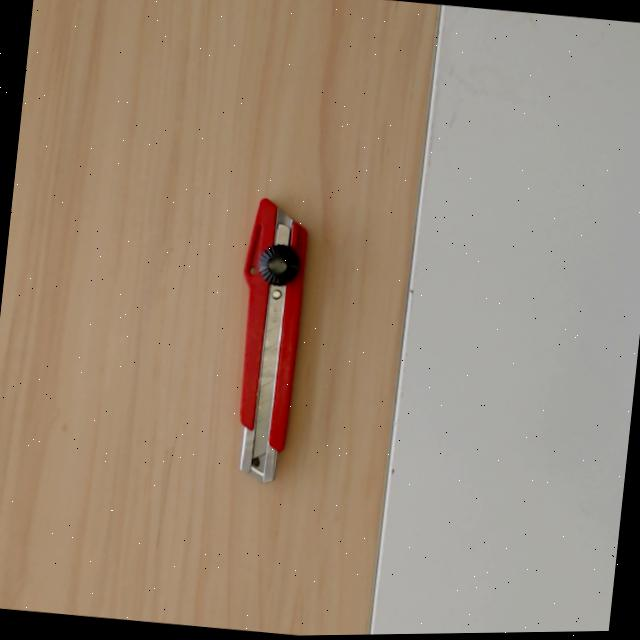Cutter-Besar: (224, 197, 309, 483)
